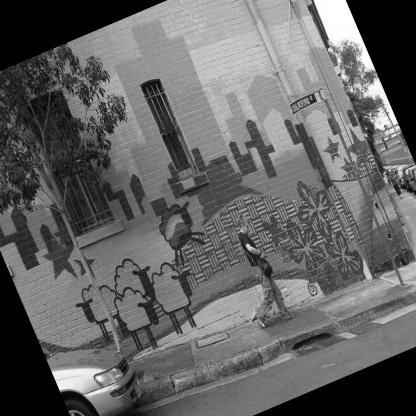car: (36, 300, 174, 416)
